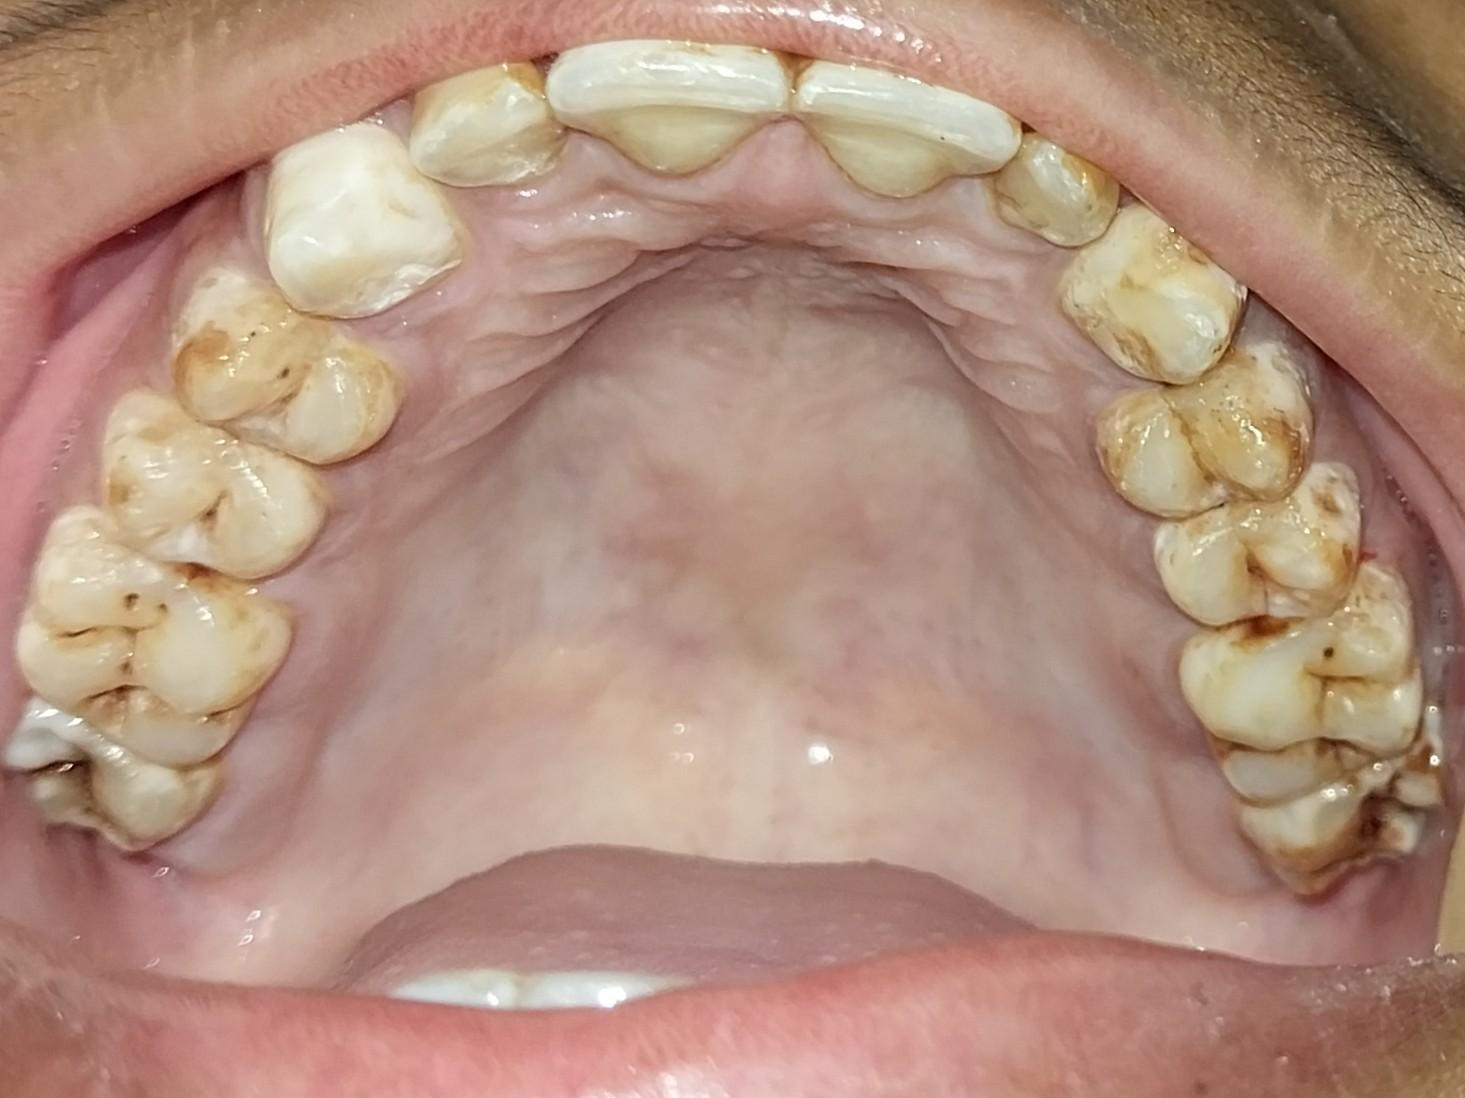D: (23, 511, 284, 763), (1173, 602, 1423, 791), (4, 689, 225, 856), (1234, 741, 1439, 897)
